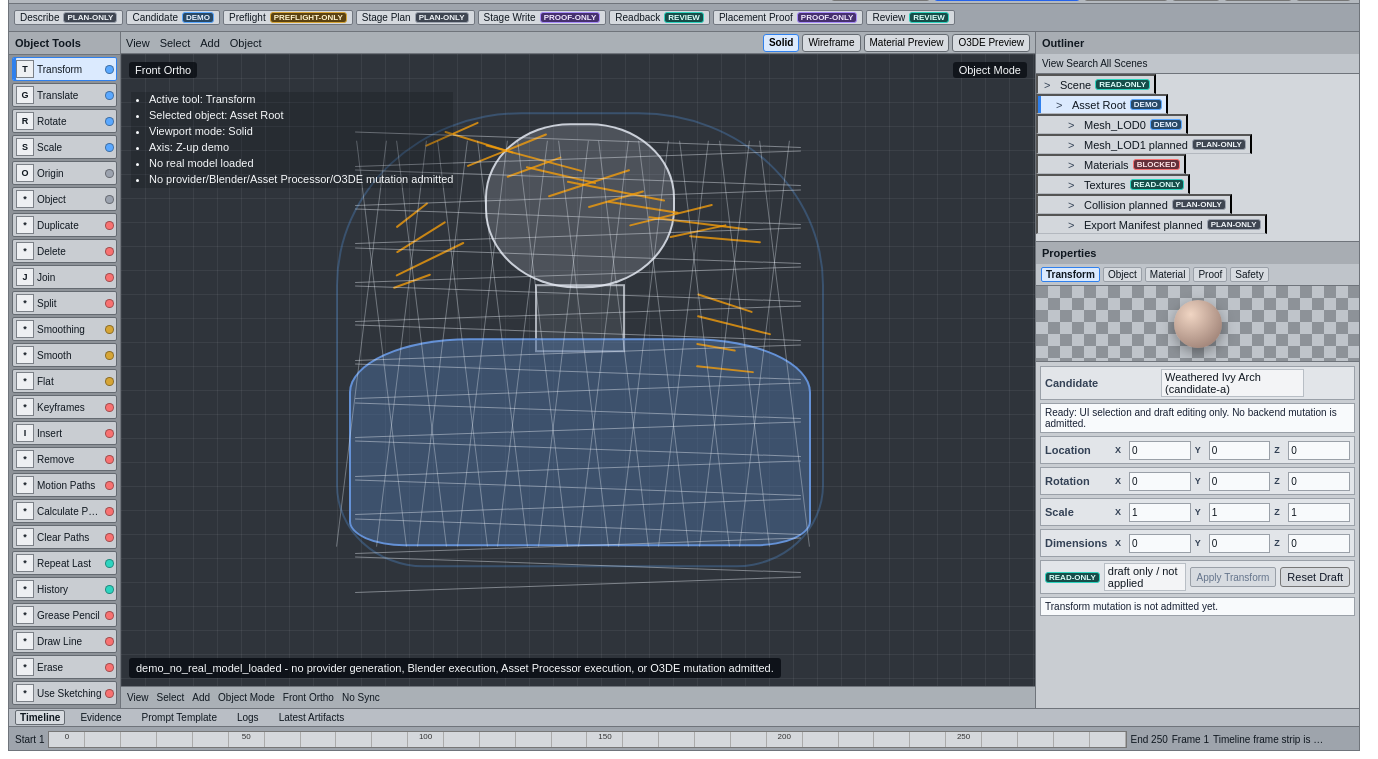
Test: AssetForgeBlenderCockpit › switches bottom tabs and shows status/evidence/prompt/artifact content
(page scrolled)
Click the button "Evidence": (101, 718) [75,710,126,725]
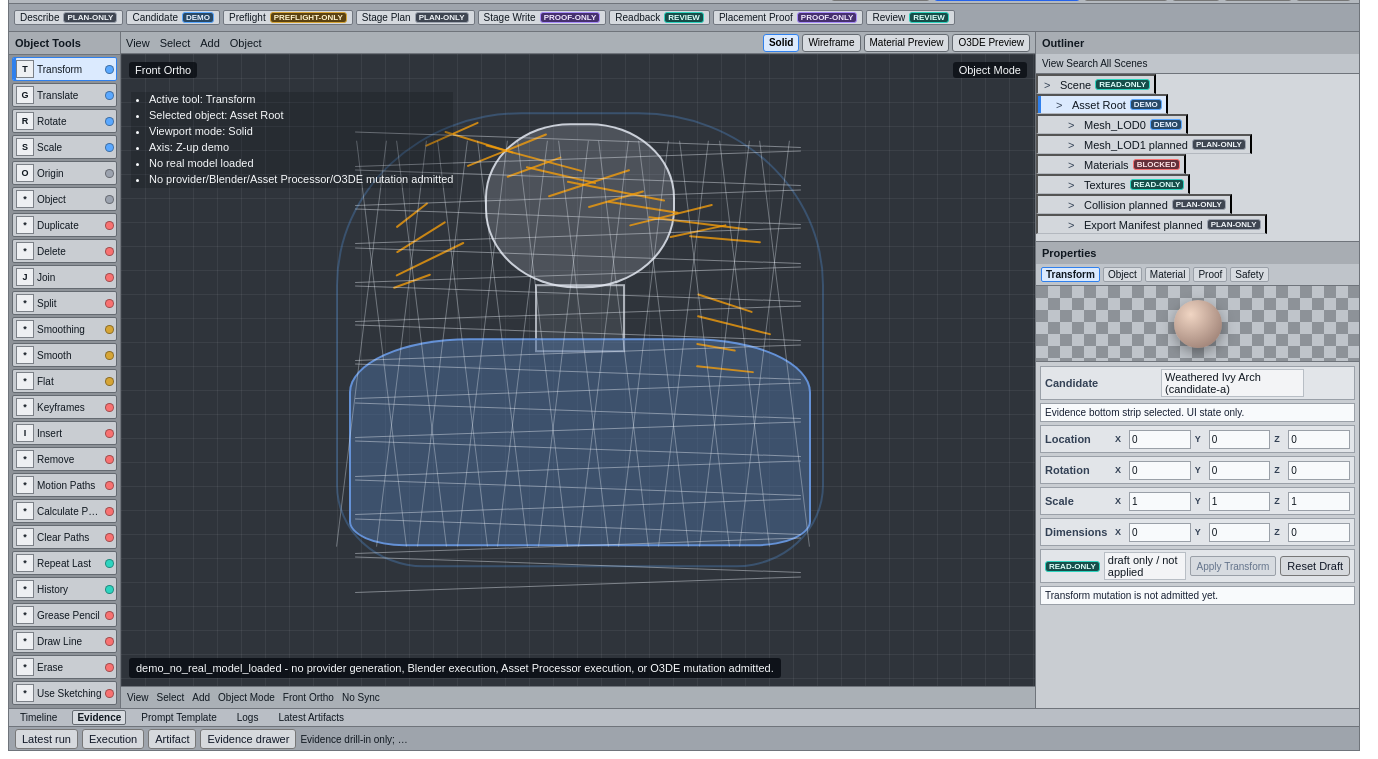
Result: the text "Evidence drill-in only; no runtime execution." is shown at [300,734,412,744]
Click the button "Prompt Template": (179, 718) [136,710,222,725]
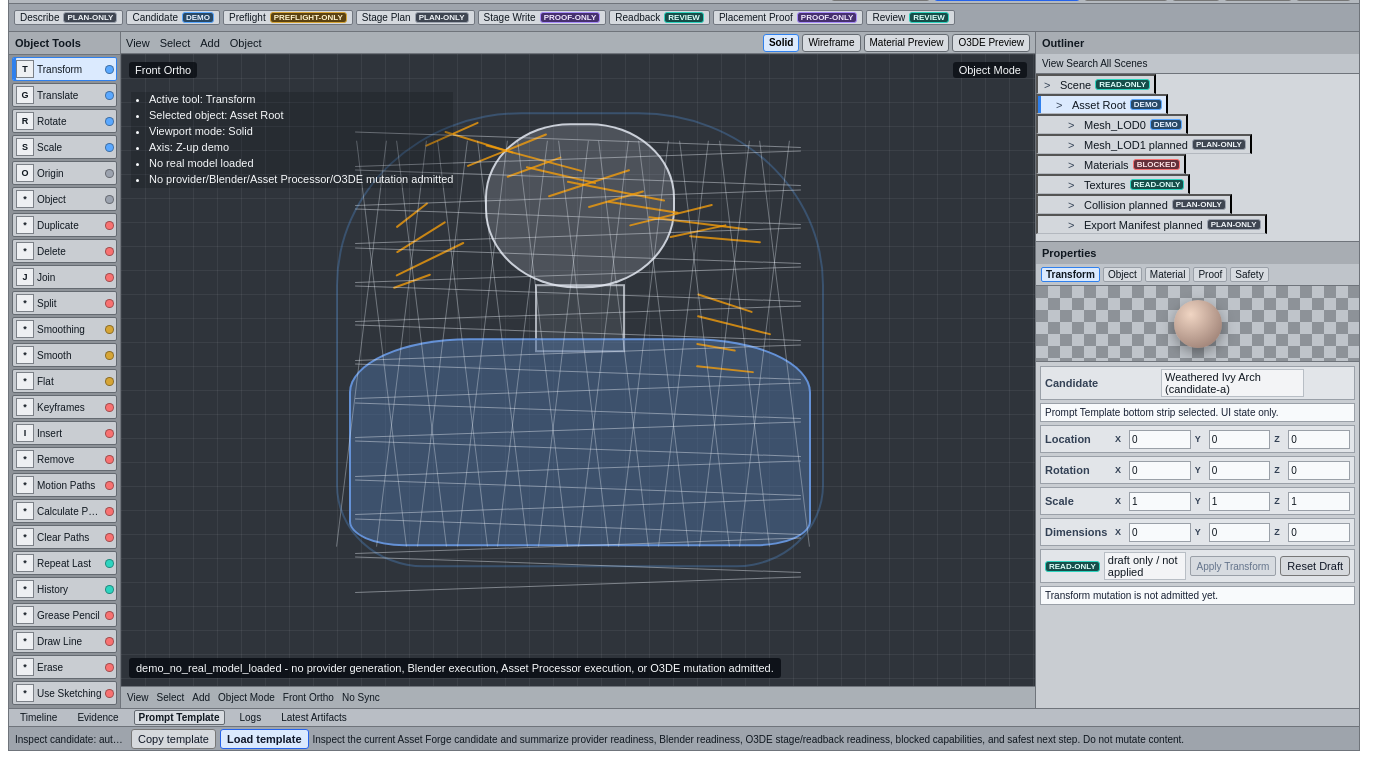
Result: the text "Inspect candidate: autoExecute=false" is shown at [15,734,127,744]
Click the button "Logs": (250, 718) [234,710,266,725]
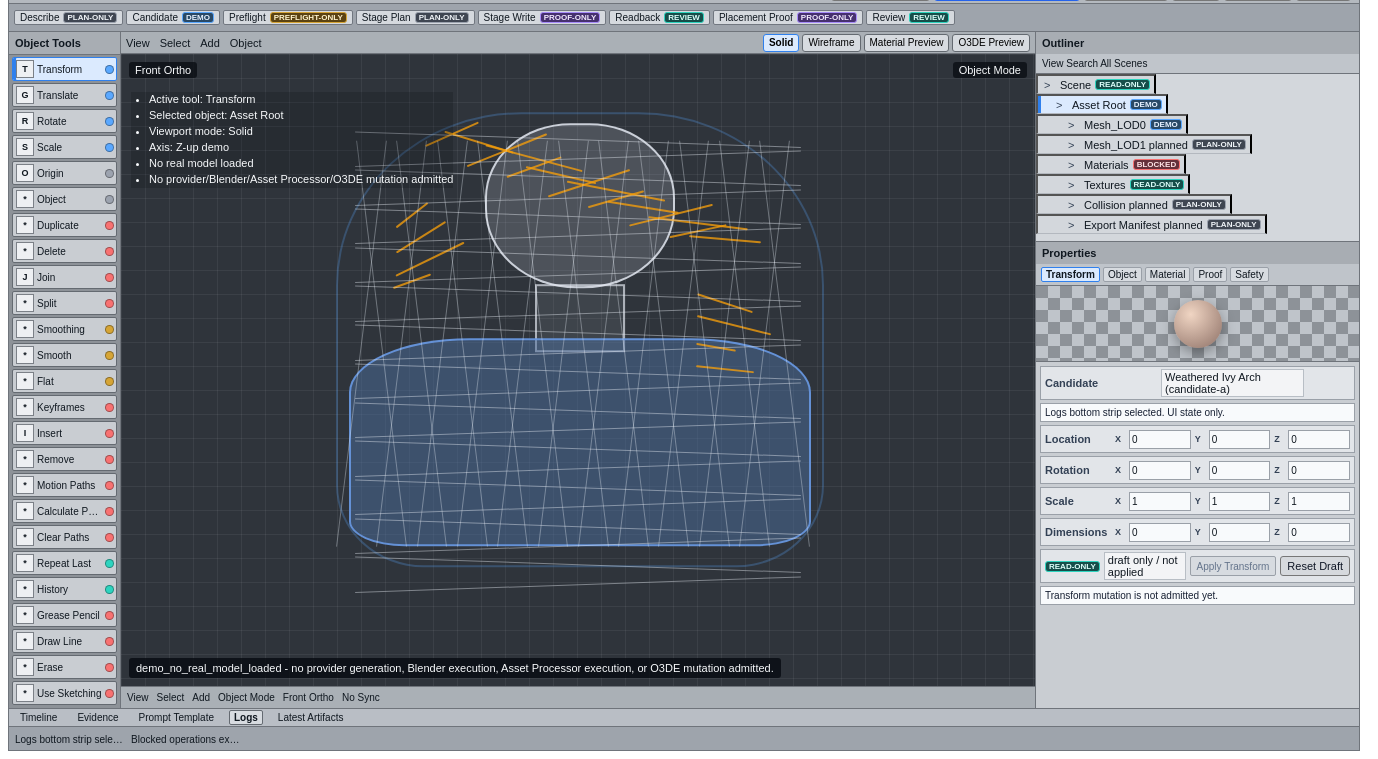
Result: the text "Blocked operations explain next unlock" is shown at [131,734,431,744]
Click the button "Latest Artifacts": (311, 718) [273,710,348,725]
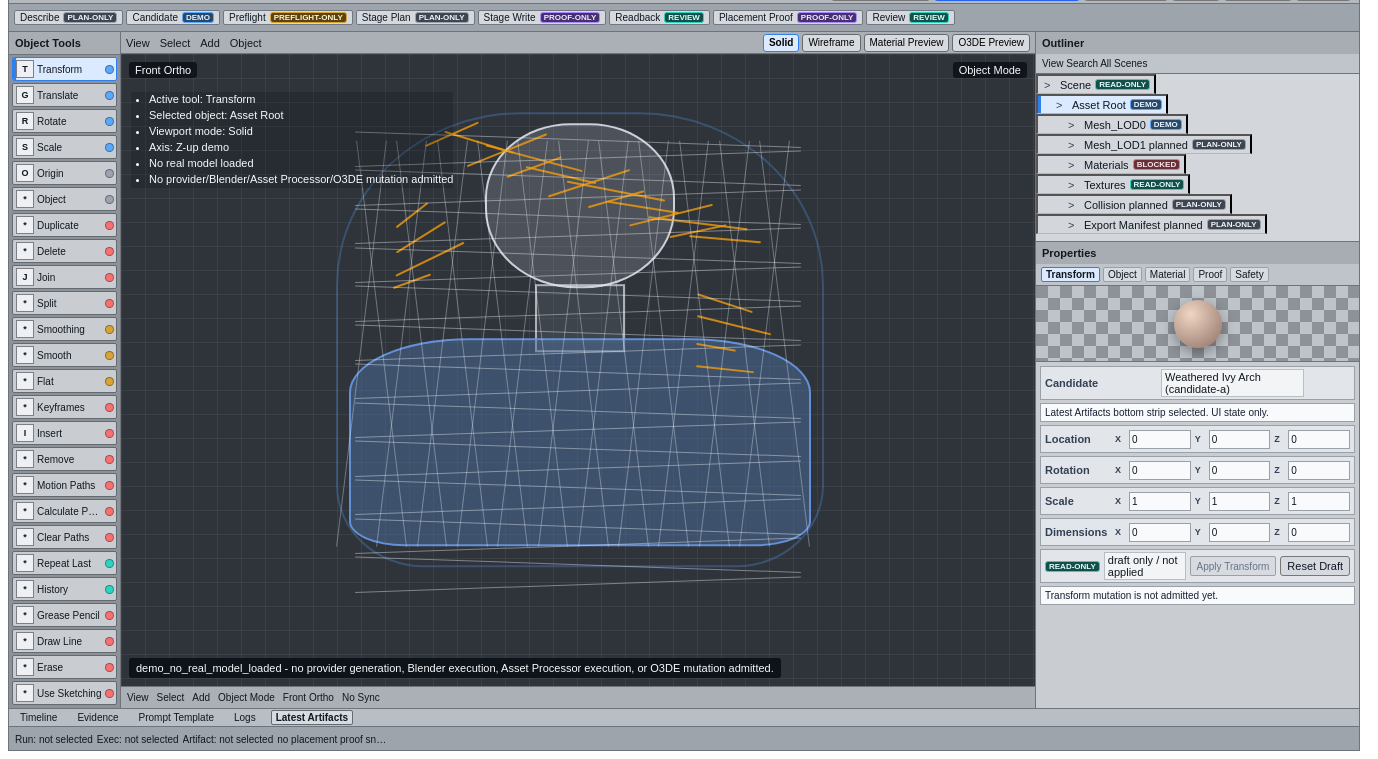
Result: the text "Run: not selected" is shown at [15,734,93,744]
Click the button "Timeline": (39, 718) [15,710,62,725]
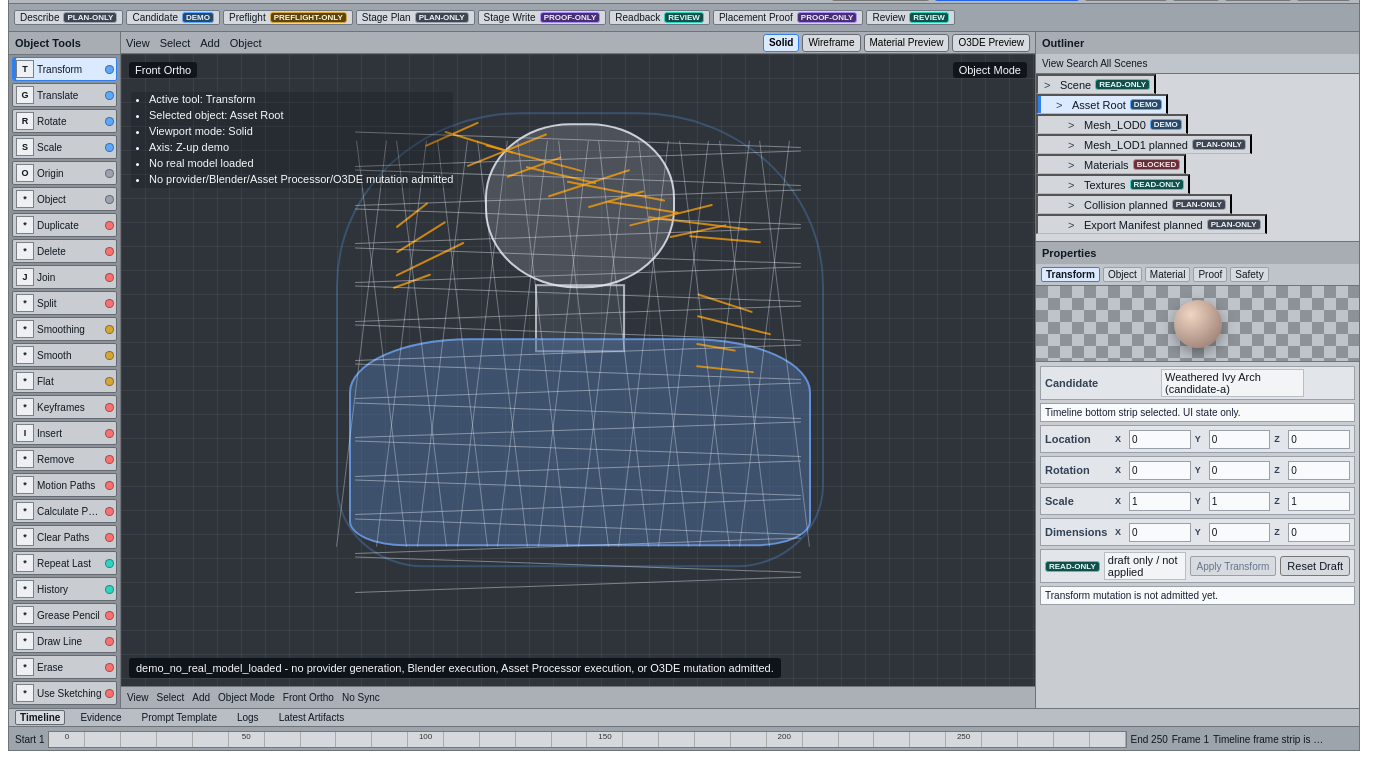
Result: the text "Start 1" is shown at [15,734,44,744]
Result: the text "End 250" is shown at [1130,734,1168,744]
